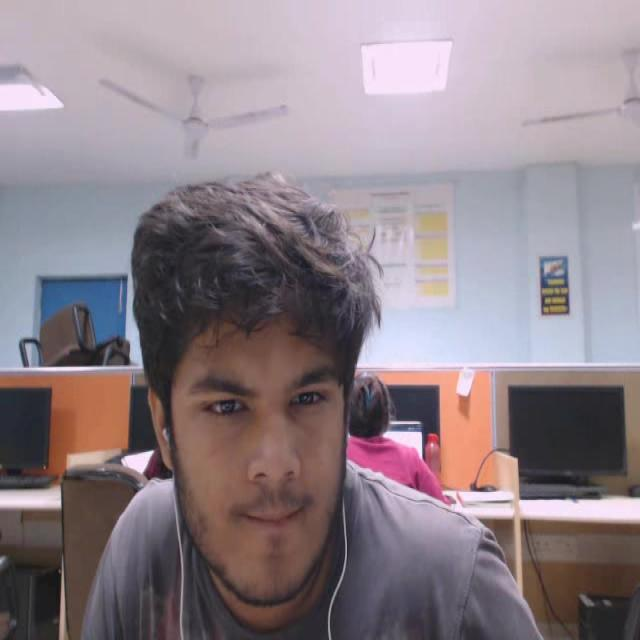Engaged: (125, 140, 403, 629)
